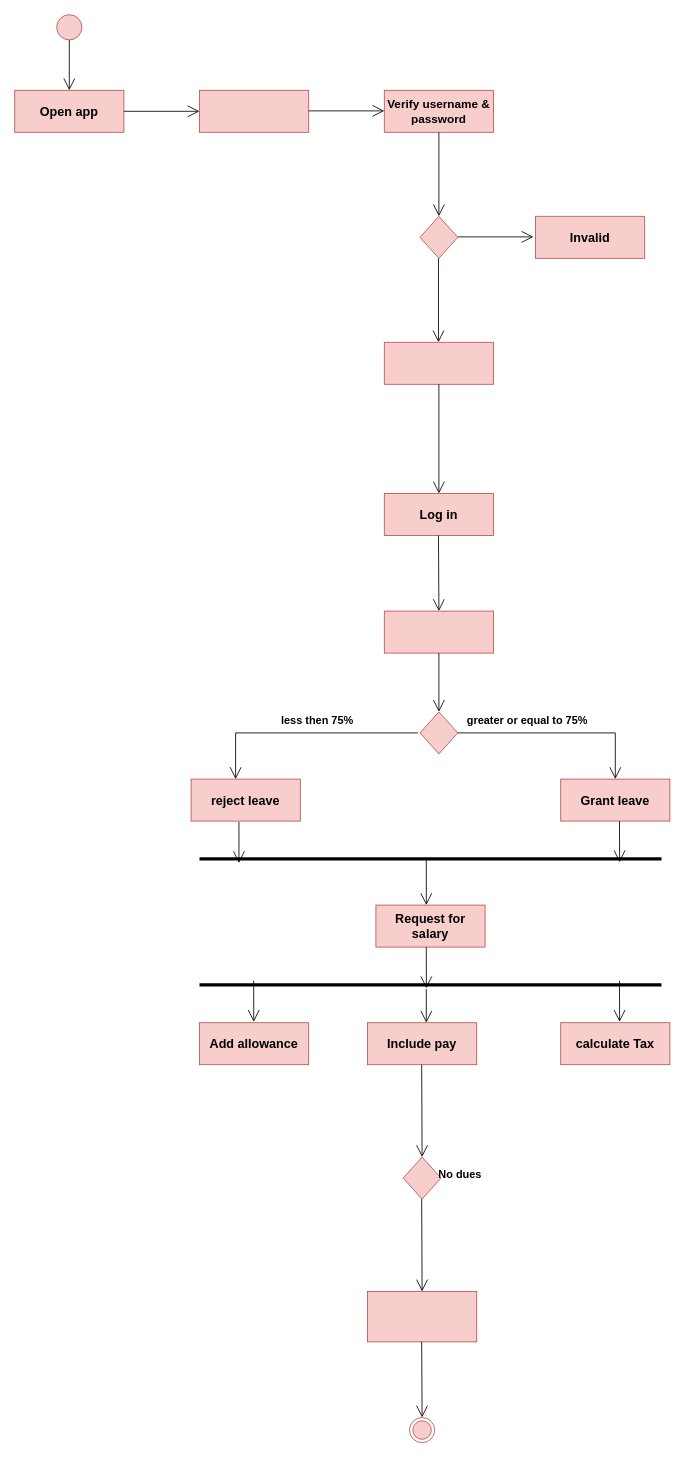
Some shapes in this 685 by 1457 pixel diagram are drawn without their labels. Each missing label, with the centre of its shape:
Enter username & password: [254,110]
Issue salary: [422,1316]
Request for leave: [438,631]
Valid: [438,362]
